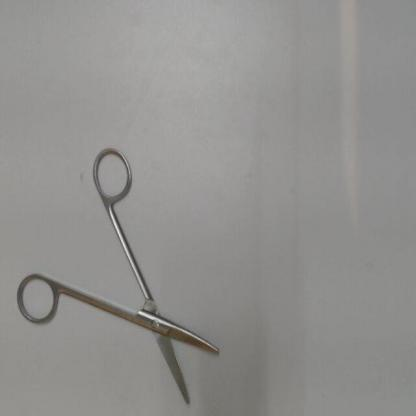Curved Mayo Scissors: (11, 138, 226, 410)
